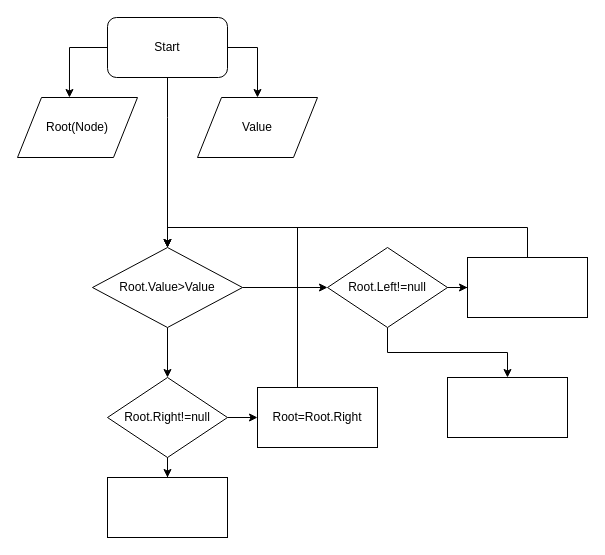
Image size: 605x555. Some labels were removed from this diagram. Each missing label, with the centre of its shape:
"Root.Left=New Node(Value)" goes at (507,407).
"Root.Right=New Node(Value)" goes at (167,507).
"Root=Root.Left" goes at (527,287).
